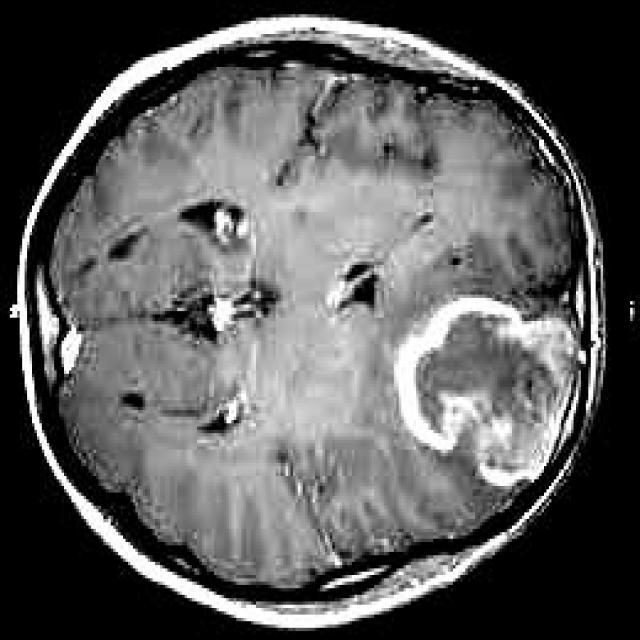tumor: (394, 294, 581, 488)
